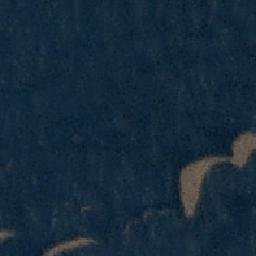debris: (177, 166, 207, 219), (228, 130, 256, 168), (56, 236, 93, 247), (195, 156, 230, 165), (1, 228, 16, 245), (140, 207, 157, 222), (39, 246, 59, 255)
